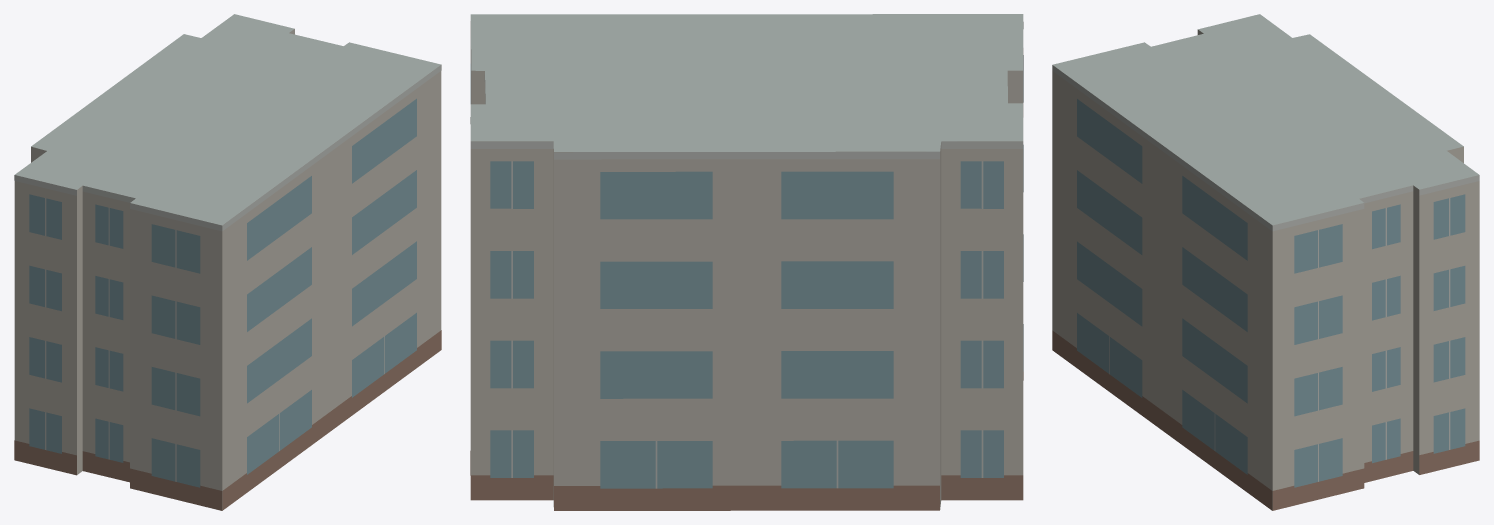
Rendered from survey-upis-32716723.glb.
3 renders of one model, left to right at view 1: azimuth 30°, elevation 25°; view 2: azimuth 150°, elevation 25°; view 3: azimuth 270°, elevation 25°, orthographic. The views are drawn at different scales.
Visible parts, largest first — view 1: survey-upis-32716723.tmp; view 2: survey-upis-32716723.tmp; view 3: survey-upis-32716723.tmp.
Boxes of the visible parts, <box> form: survey-upis-32716723.tmp: <box>14,14,441,510</box>; survey-upis-32716723.tmp: <box>470,14,1023,510</box>; survey-upis-32716723.tmp: <box>1052,14,1479,510</box>.
Bounding box in the file's own units: 18.6 × 11.7 × 15.89.
